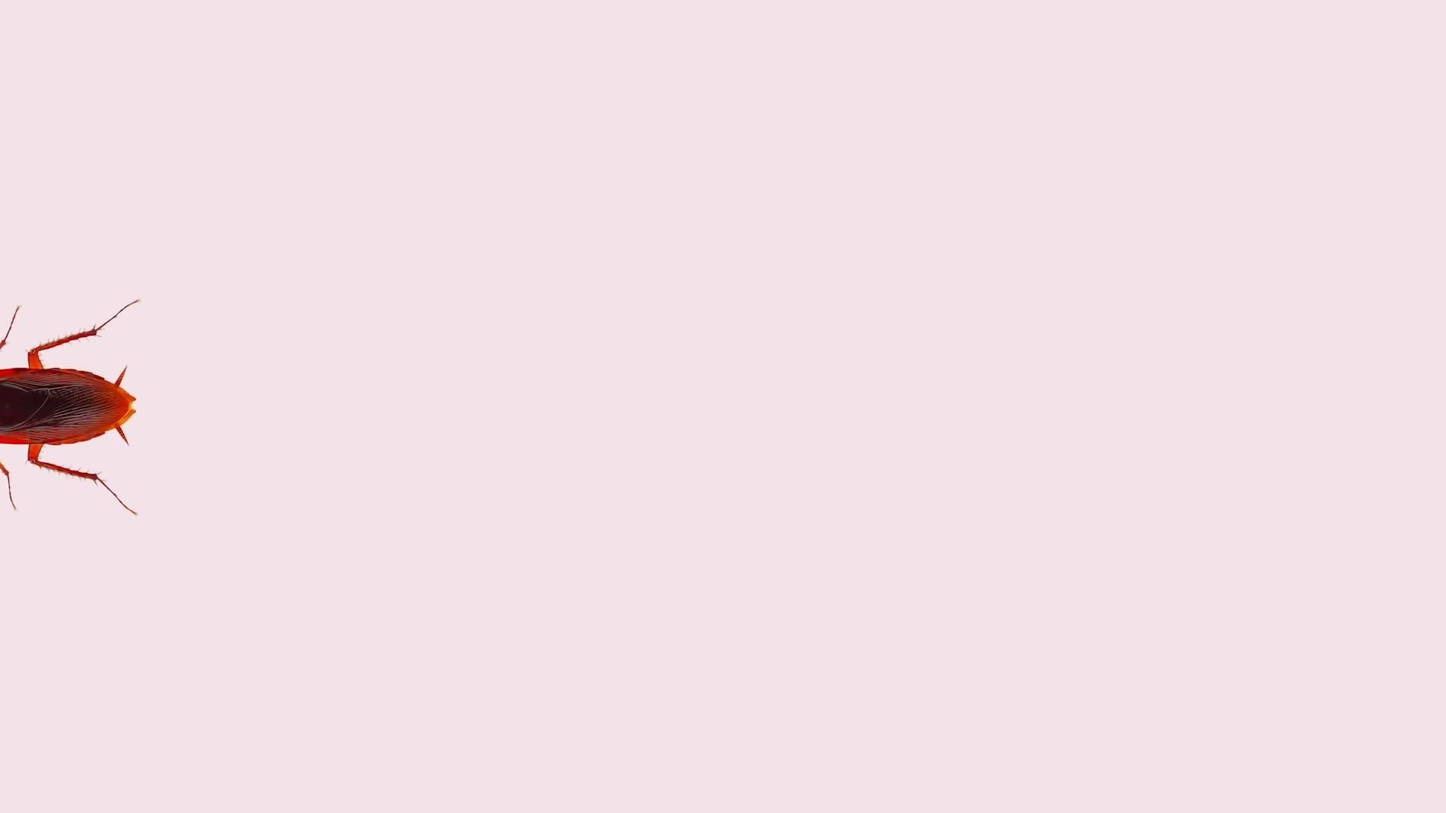cockroach: (0, 275, 143, 523)
